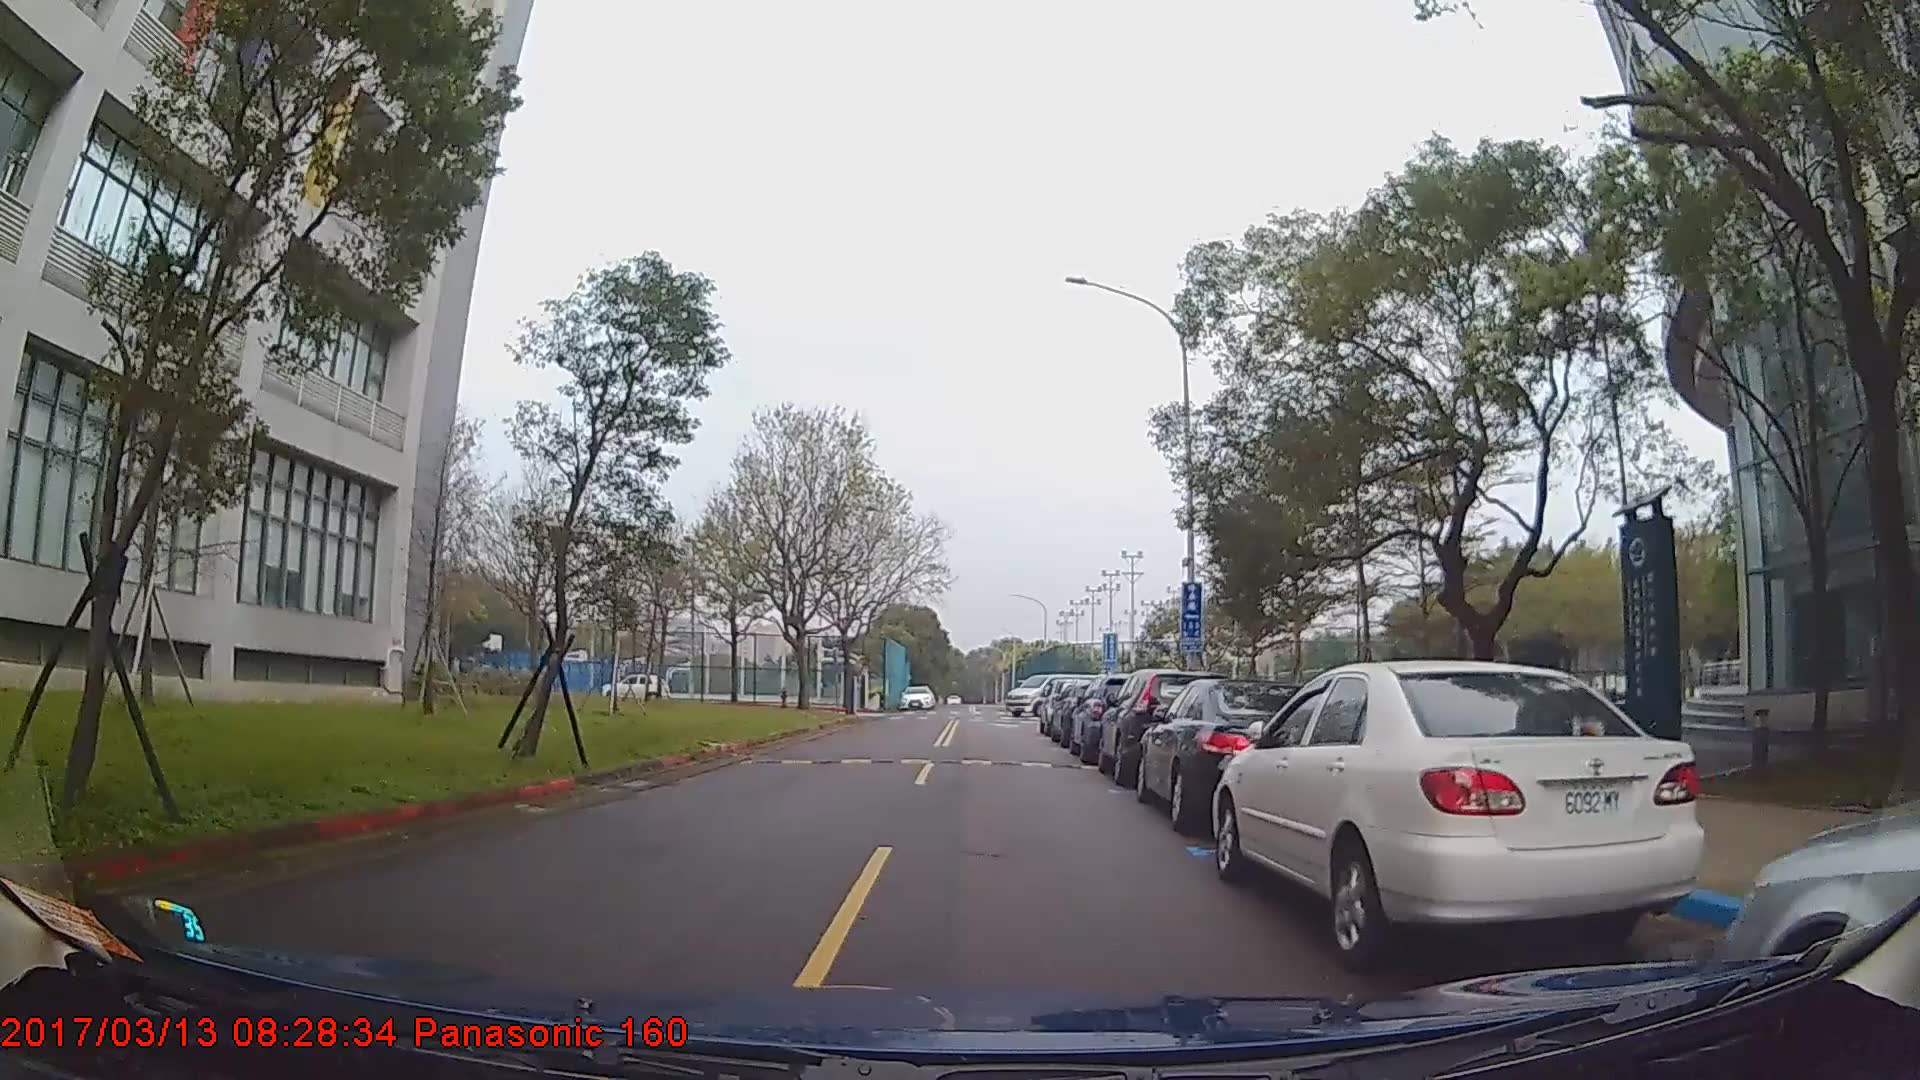vehicle: (1212, 659, 1704, 968), (1139, 674, 1337, 832), (1093, 667, 1228, 786), (1068, 673, 1155, 767), (599, 671, 669, 700), (899, 683, 934, 708)
